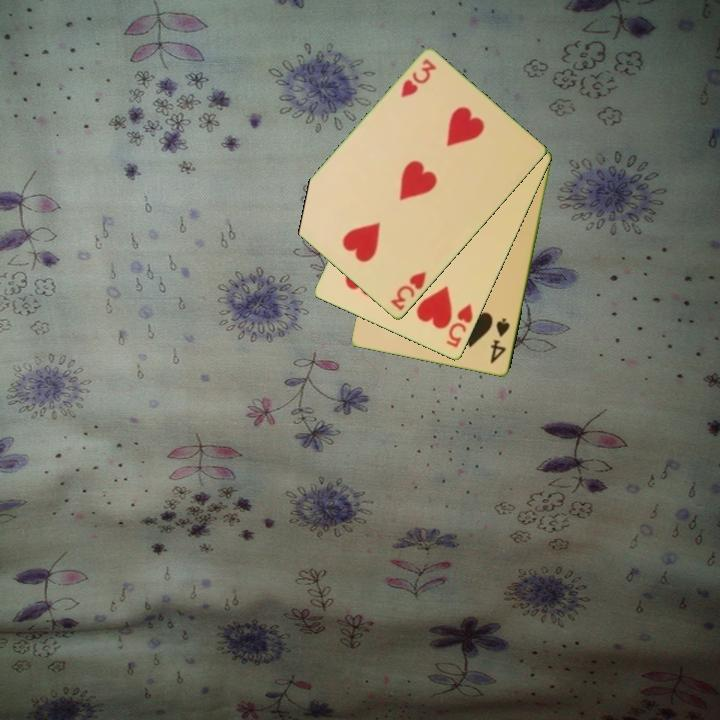3h: (387, 268, 429, 314), (397, 55, 439, 101)
4s: (487, 315, 513, 367)
5h: (443, 301, 476, 351)
